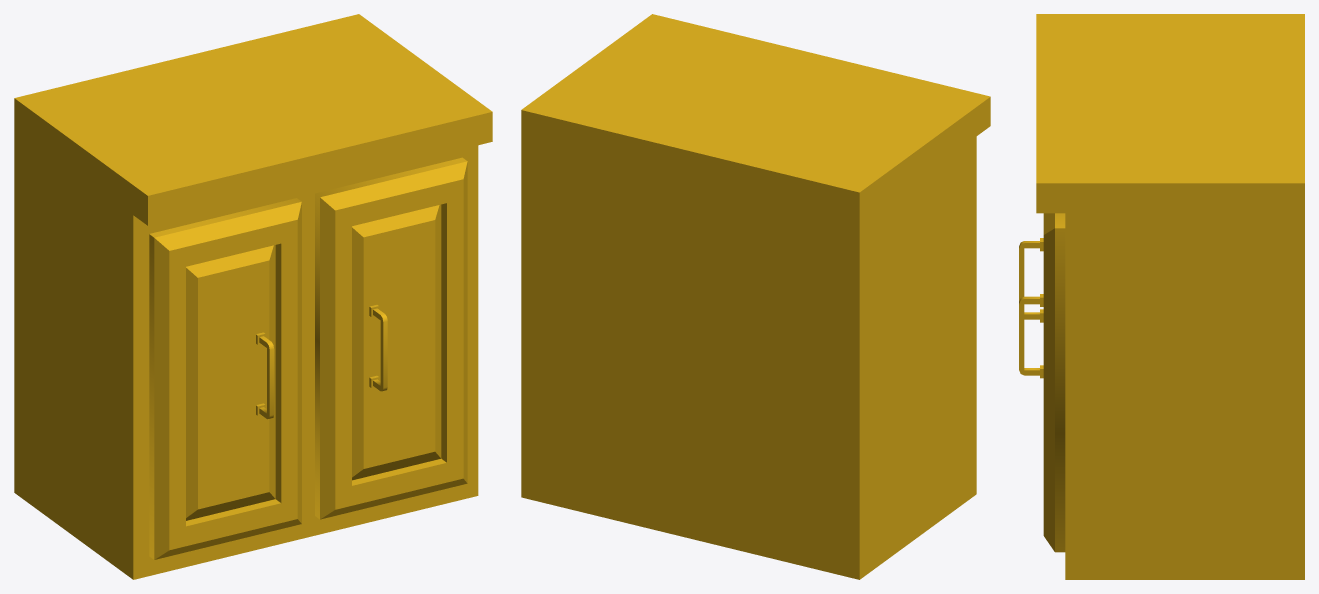
The model's file is CTS_E_CabinetC.fbx.
The picture shows the model from 3 angles, left to right: view 1: azimuth 30°, elevation 25°; view 2: azimuth 150°, elevation 25°; view 3: azimuth 270°, elevation 25°; orthographic projection. The views are drawn at different scales.
Parts seen in each view (by area): view 1: CTS_E_CabinetC; view 2: CTS_E_CabinetC; view 3: CTS_E_CabinetC.
Part boxes in pixels (box(x1,y1,x2,y2)): CTS_E_CabinetC: box(14, 14, 492, 579); CTS_E_CabinetC: box(521, 14, 990, 579); CTS_E_CabinetC: box(1019, 14, 1304, 579).
Size of the model in its own units: 98.13 by 107 by 70.04.
